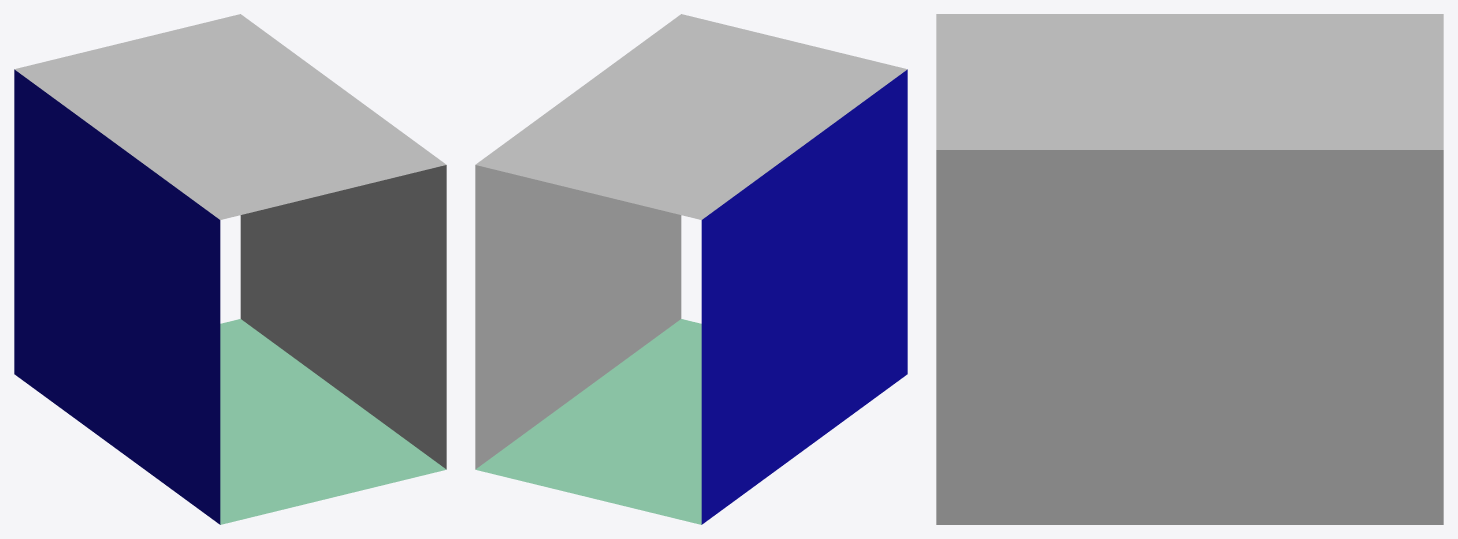
The model's file is multimulti.DAE.
3 renders of one model, left to right at view 1: azimuth 30°, elevation 25°; view 2: azimuth 150°, elevation 25°; view 3: azimuth 270°, elevation 25°, orthographic. The views are drawn at different scales.
Visible parts, largest first — view 1: Box01; view 2: Box01; view 3: Box01.
Boxes of the visible parts, <box> form: Box01: <box>14,14,446,524</box>; Box01: <box>475,14,907,524</box>; Box01: <box>936,14,1443,524</box>.
Bounding box in the file's own units: 49 × 77.24 × 63.03.
